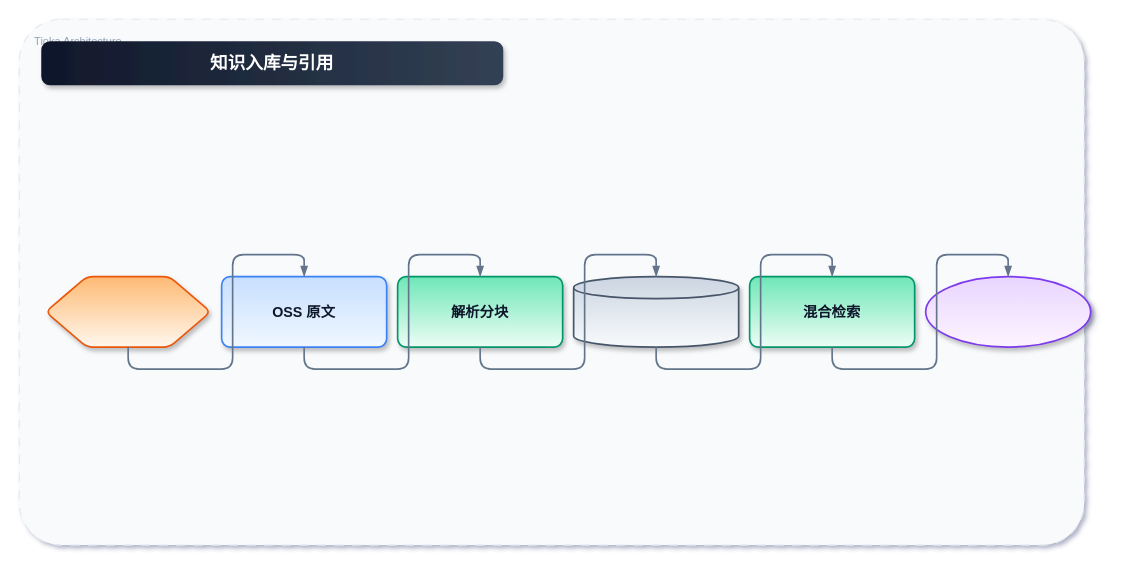
Image size: 1124x571. Some labels were removed from this diagram. The shapes that lost their labels are listed below. From the top down, each one's centre as x and y in pixels, then its label:
At pixel 129 313: "上传/同步源".
At pixel 657 313: "Embedding 向量库".
At pixel 1009 313: "Citation".
